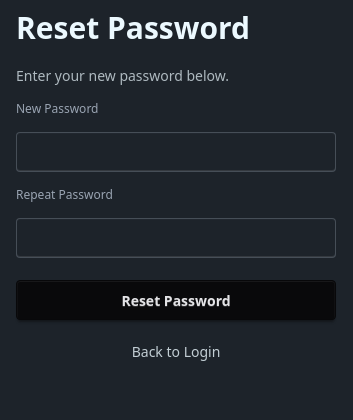
Scenario: ResetPasswordPage › shows error if passwords do not match
The width and height of the screenshot is (353, 420).
Type "pass123" into the password field labelled "New Password".
click(176, 152); type("pass123")  # box [16,132,336,172]
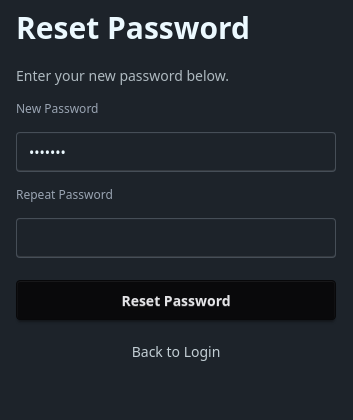
Type "pass456" into the password field labelled "Repeat Password".
click(176, 238); type("pass456")  # box [16,218,336,258]
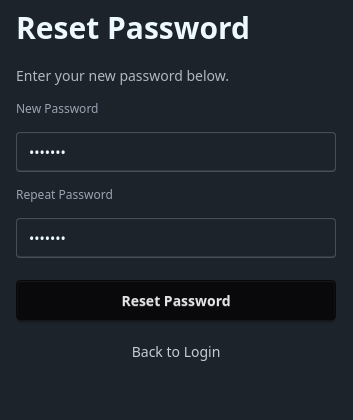
Click the button "Reset Password".
click(176, 300)  # box [16,280,336,320]
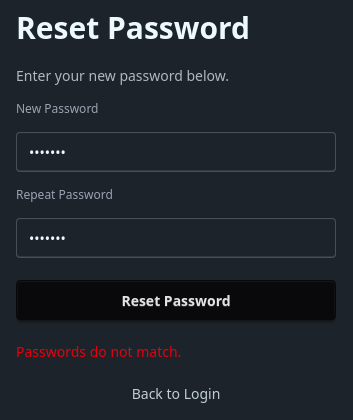
Result: the text "Passwords do not match." is shown at [16,342,181,361]
